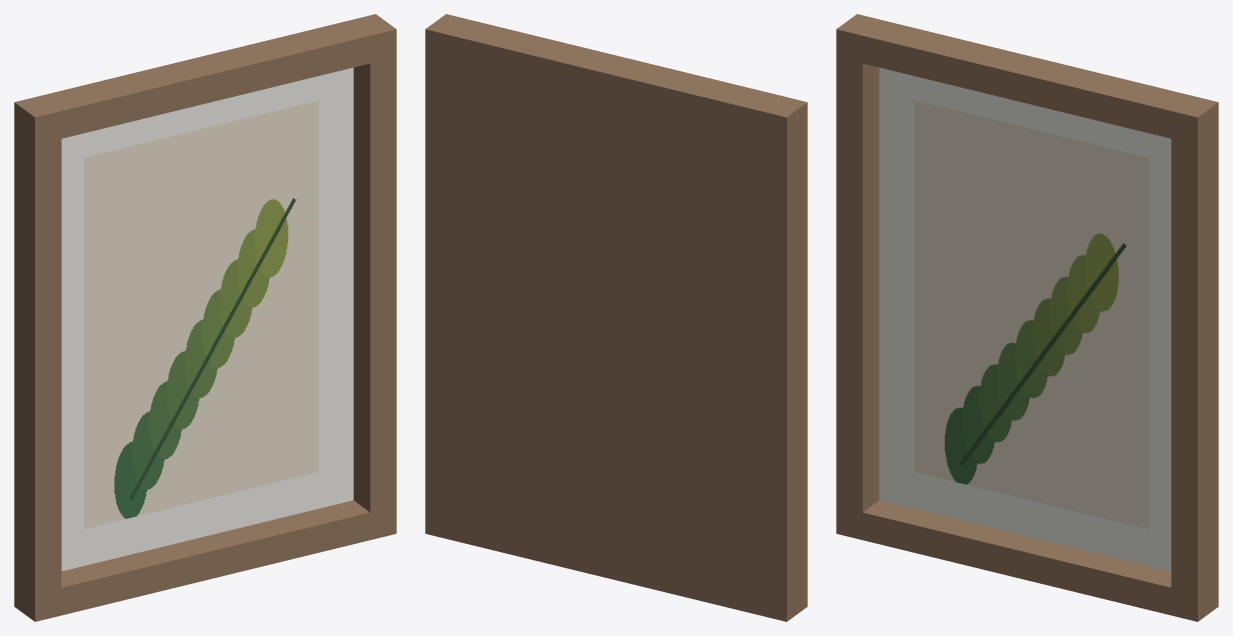
File: wallart_05.glb
The picture shows the model from 3 angles, left to right: view 1: azimuth 30°, elevation 25°; view 2: azimuth 150°, elevation 25°; view 3: azimuth 330°, elevation 25°; orthographic projection.
Parts seen in each view (by area): view 1: frame; view 2: frame; view 3: frame.
Part boxes in pixels (bbox=[...]): frame: bbox=[14, 14, 396, 621]; frame: bbox=[425, 14, 807, 621]; frame: bbox=[836, 14, 1218, 621].
Size of the model in its own units: 0.3 by 0.4 by 0.03.
3 materials, 1 textured.
